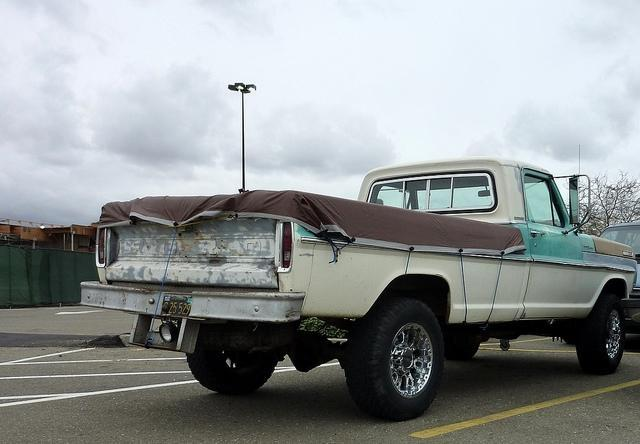car: (599, 220, 640, 298)
truck: (81, 160, 638, 422)
